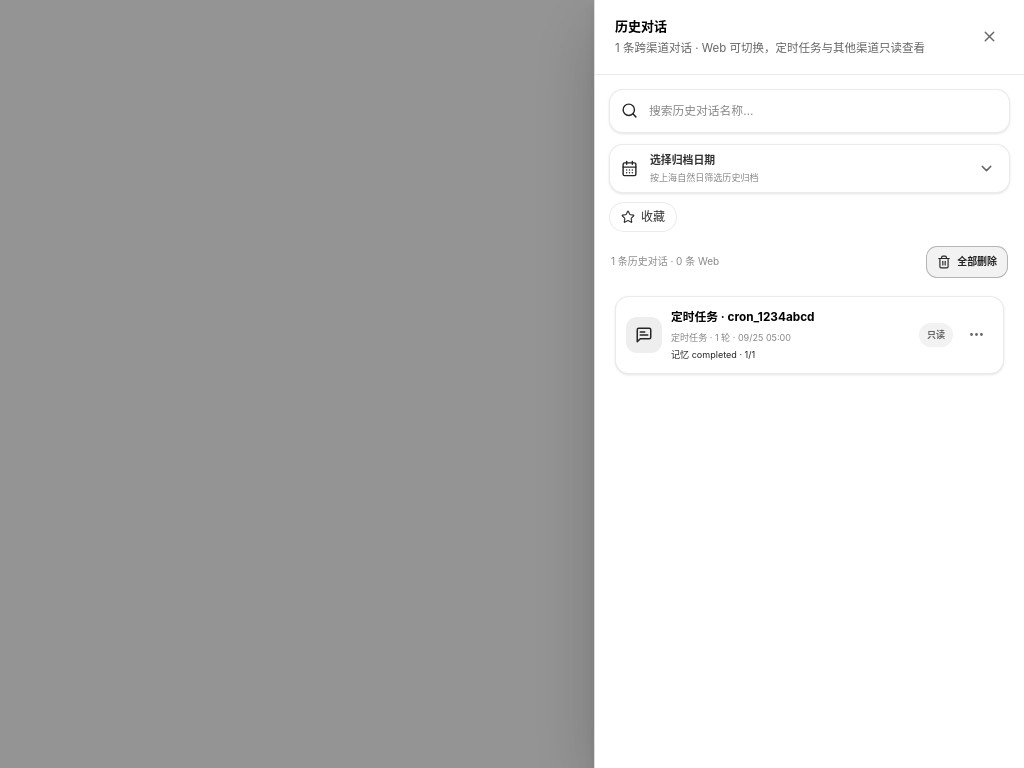
HistorySearchDrawer › 定时任务归档使用可读名称和来源，并通过只读历史接口打开
The image size is (1024, 768).
Expected: the text "定时任务 · cron_1234abcd" is shown, [671,308,814,326]
Expected: the text "定时任务 · 1 轮 · 09/25 05:00" is shown, [671,332,791,343]
Step 1. Click the button with aria-label "只读查看对话 定时任务 · cron_1234abcd" → (790, 335), box [623,305,956,365]
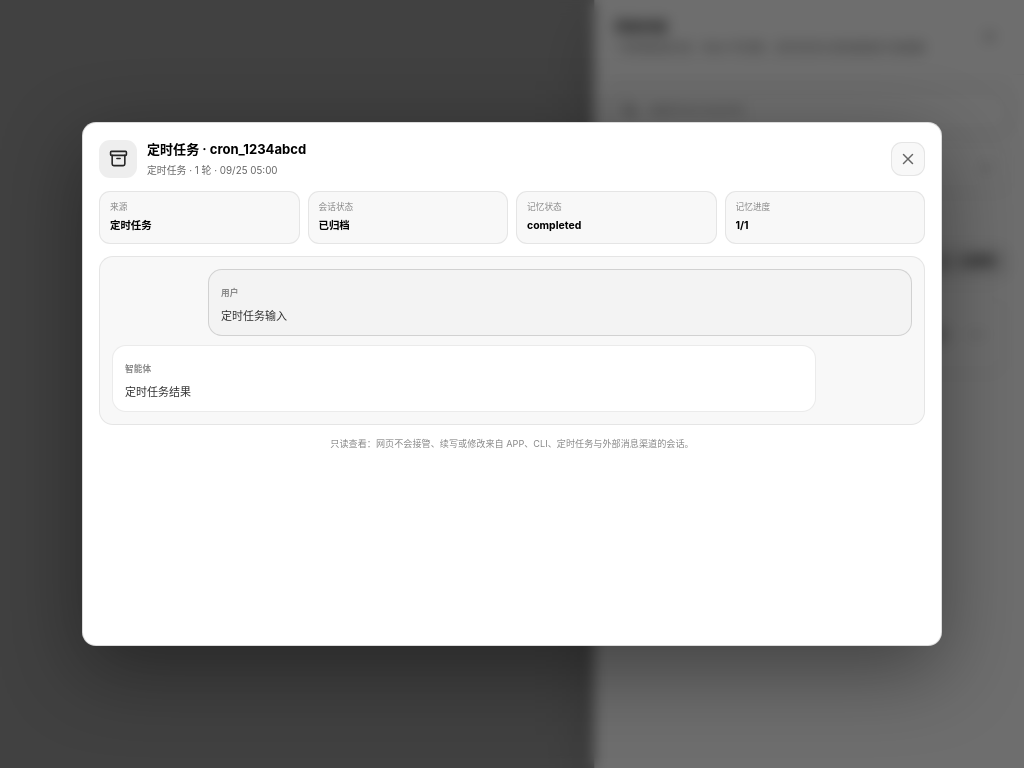
Expected: the text "定时任务结果" is shown, [125,385,191,399]
